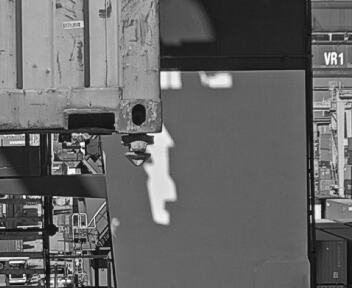twist_lock_2: (205, 60, 255, 104)
